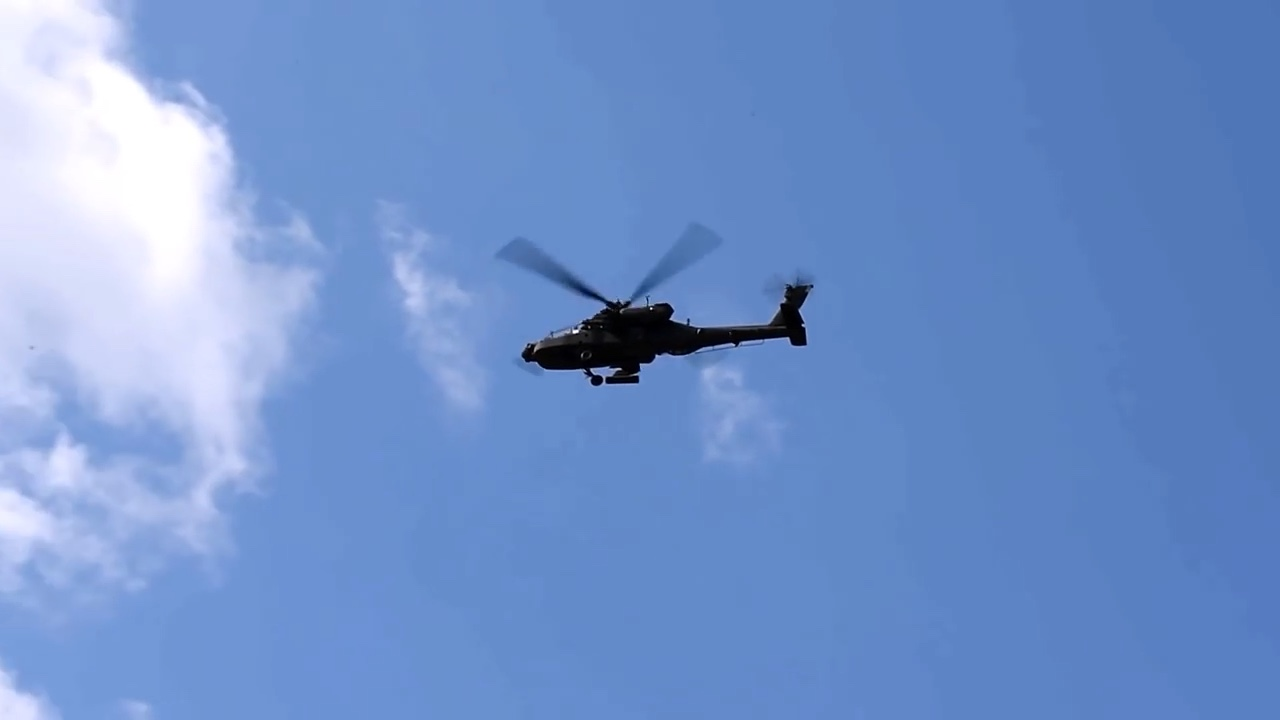ah64: (491, 219, 818, 389)
